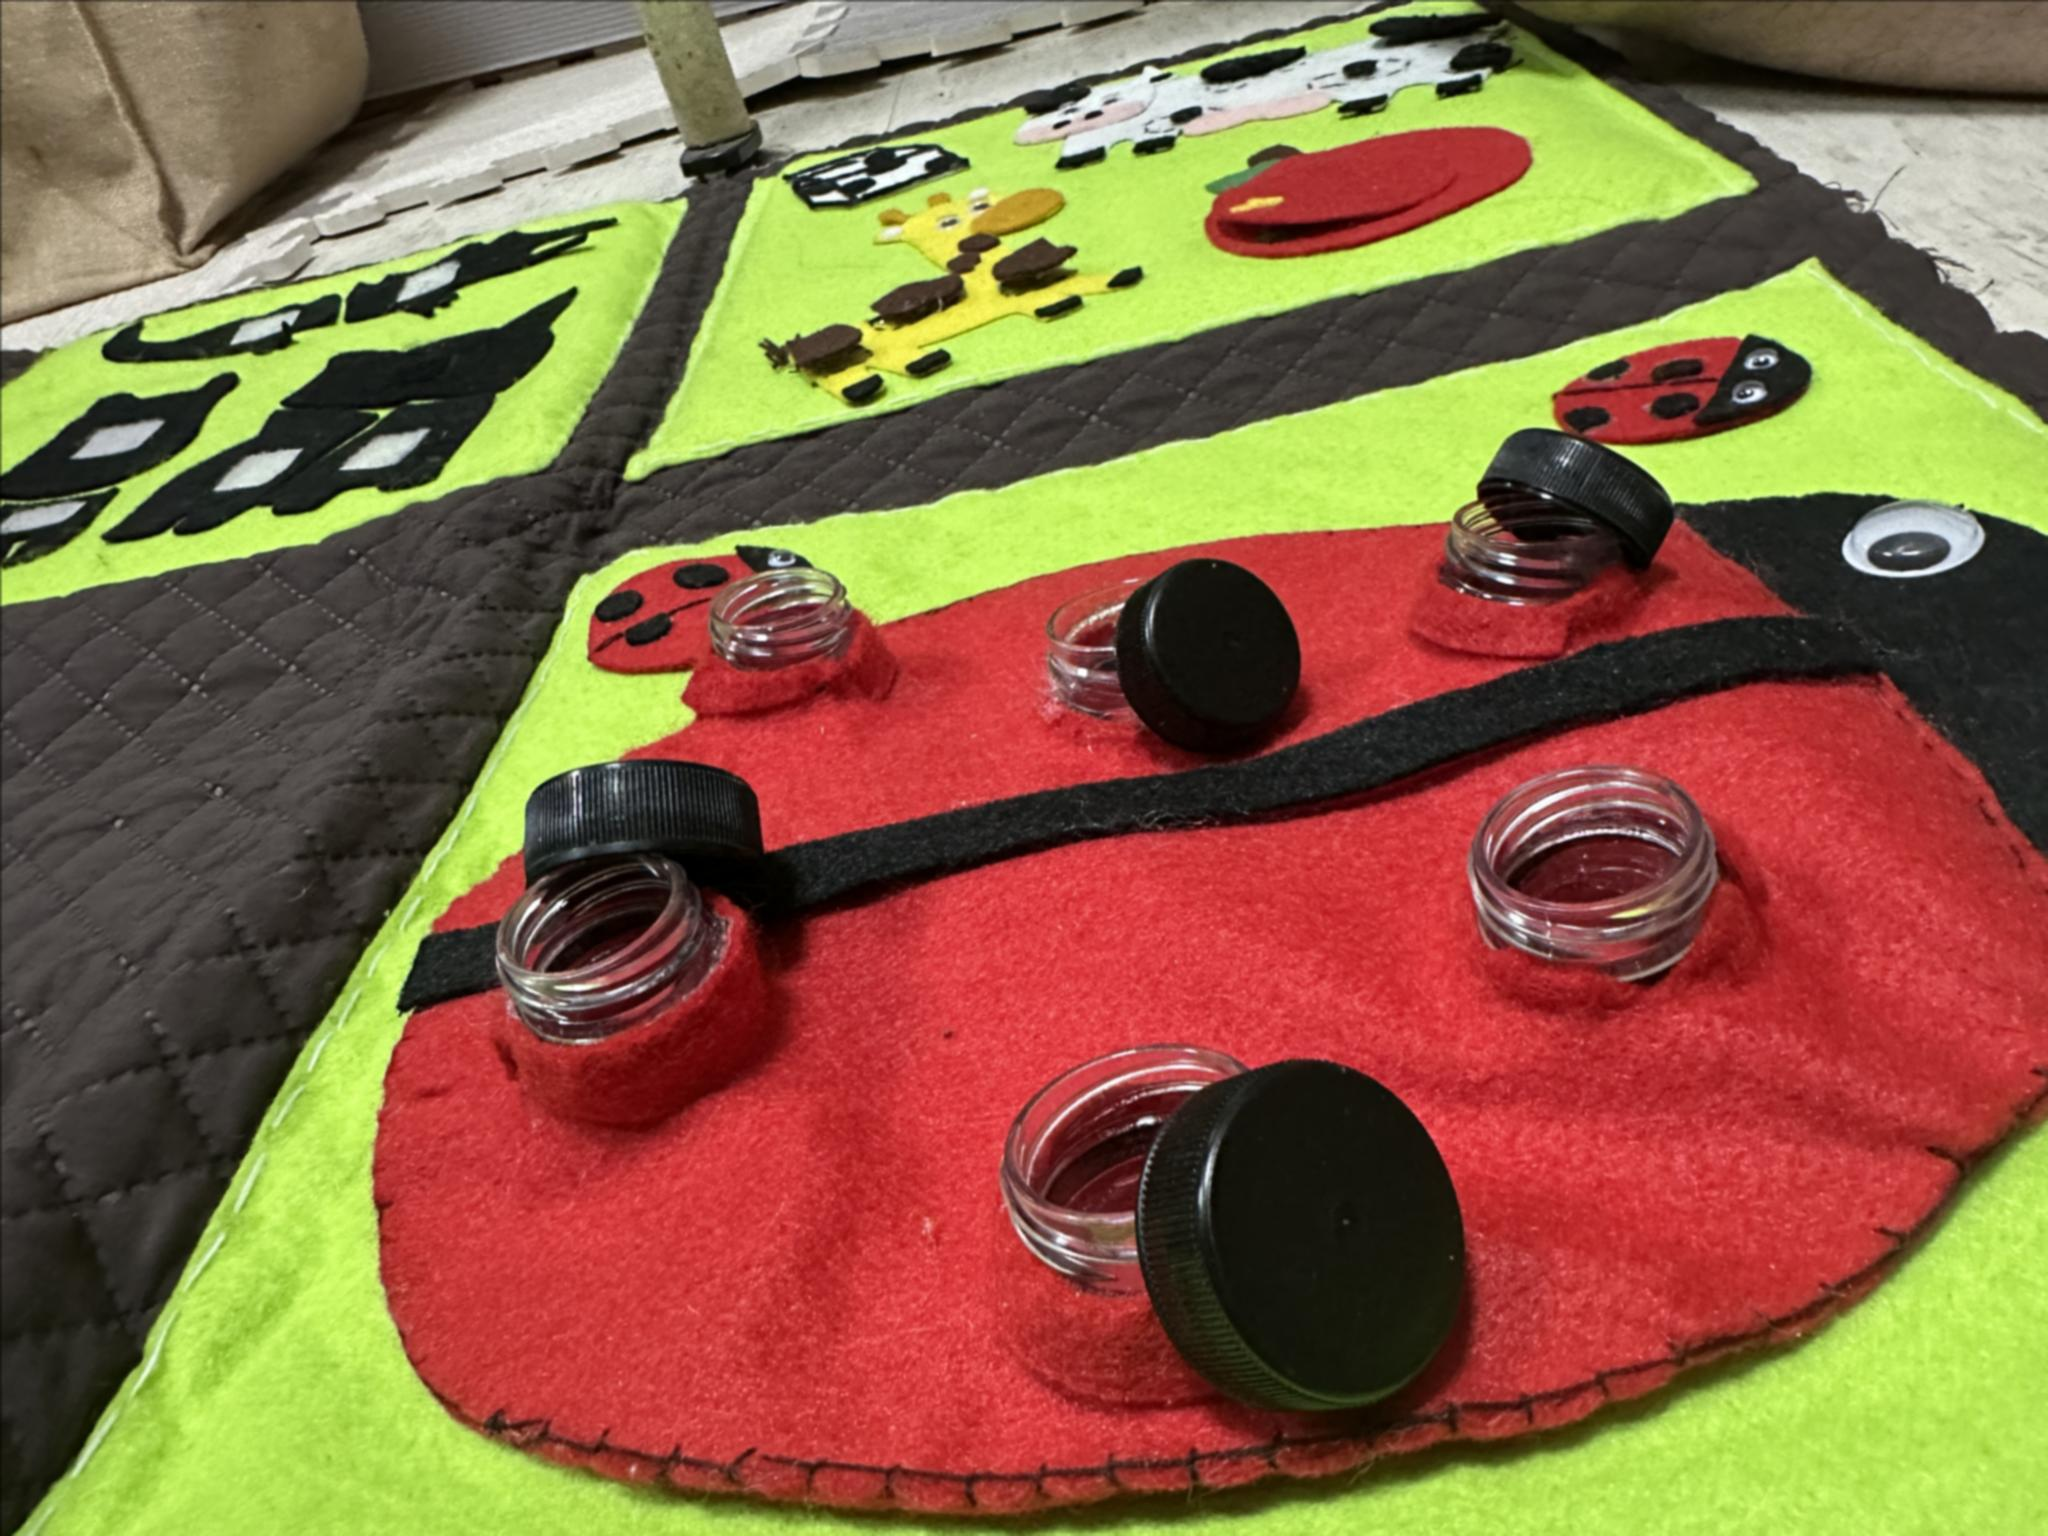cap_ng: (948, 981, 1524, 1473), (481, 729, 832, 1129), (1411, 402, 1703, 674), (1027, 511, 1337, 766)
